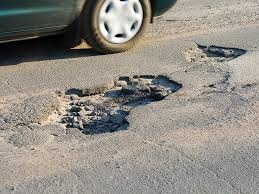pothole: (49, 70, 181, 131), (183, 39, 246, 64)
